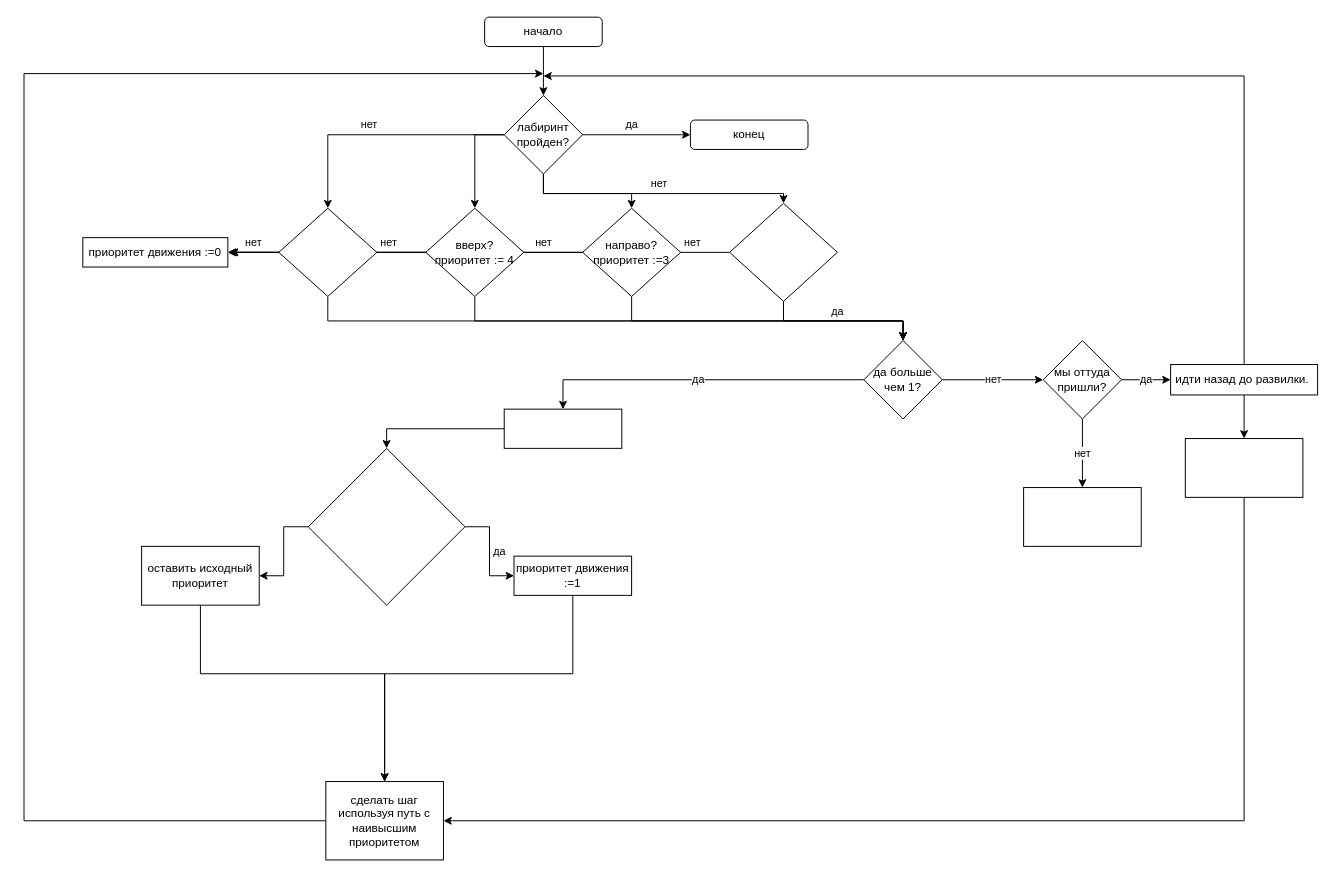
Some shapes in this 1335 by 877 pixel diagram are drawn without their labels. Here are the shapes that lost their labels. From the top down, the box of each, then its label:
(278, 207, 377, 296): налево? приоритет:=5
(729, 202, 837, 301): вниз приоритет :=2
(503, 408, 622, 448): запомнить развилку
(1184, 438, 1303, 497): приоритет движения изначальному повороту на развилке :=0
(307, 447, 465, 605): мы оттуда пришли? проверить все варианты с не нулевым приоритетом
(1023, 487, 1141, 546): идти по пути
